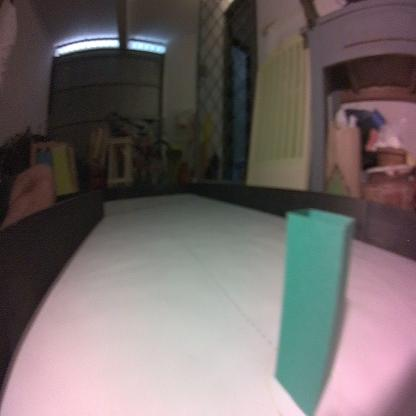green: (273, 204, 357, 416)
